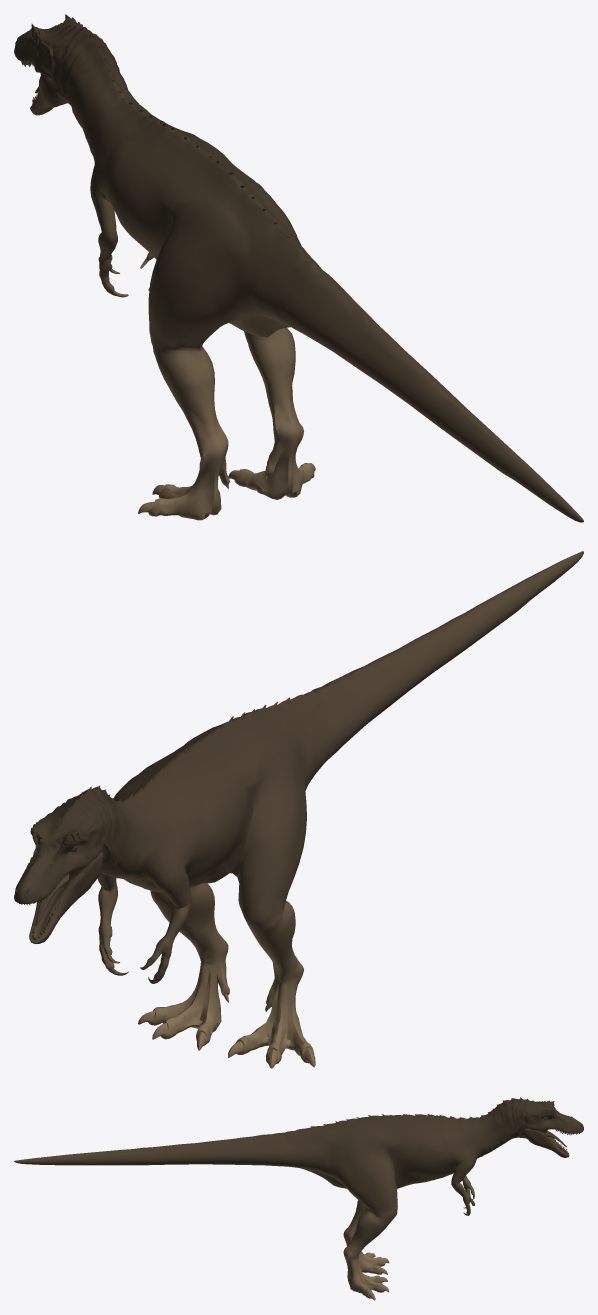
The model's file is qianzhousaurus.glb.
3 renders of one model, top to bottom at view 1: azimuth 30°, elevation 25°; view 2: azimuth 150°, elevation 25°; view 3: azimuth 270°, elevation 25°, orthographic. The views are drawn at different scales.
Parts seen in each view (by area): view 1: qianzhousaurus; view 2: qianzhousaurus; view 3: qianzhousaurus.
Part boxes in pixels (box(x1,y1,x2,y2)): qianzhousaurus: box(14, 14, 583, 522); qianzhousaurus: box(14, 551, 583, 1068); qianzhousaurus: box(14, 1097, 583, 1300).
Bounding box in the file's own units: 17.83 × 34.68 × 98.39.
